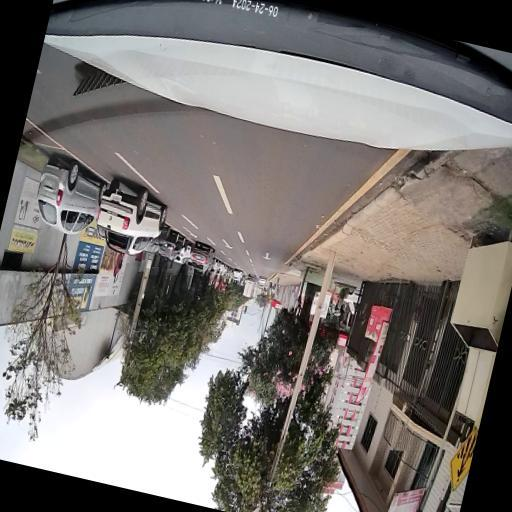A-32b: (443, 423, 479, 494)
